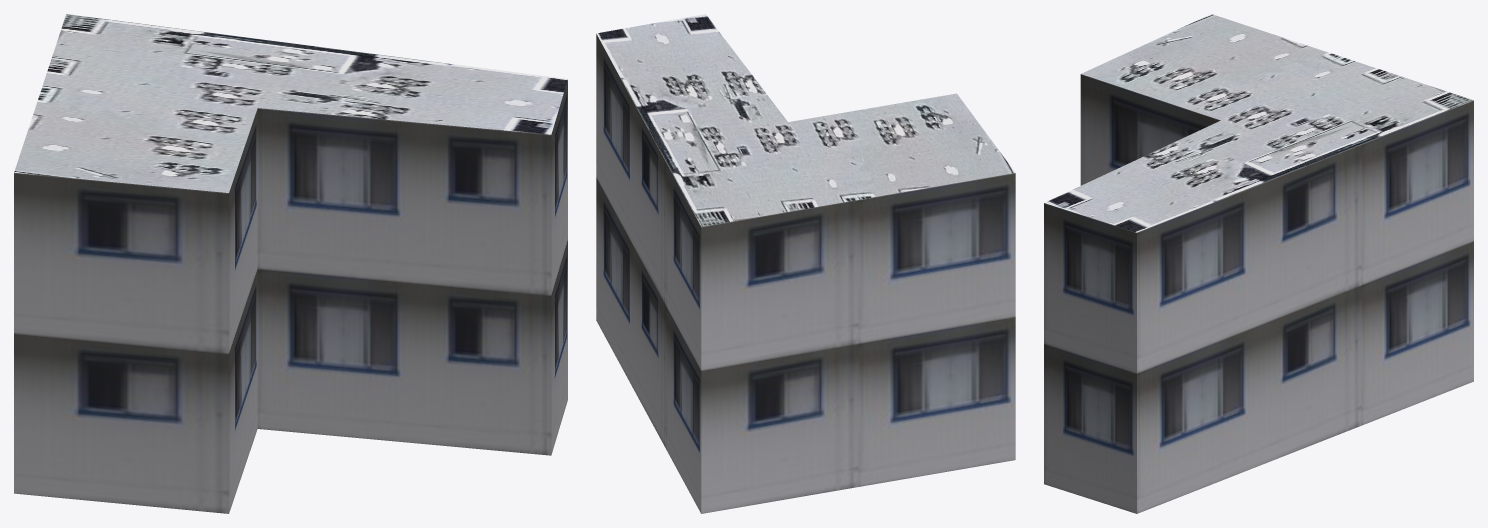
File: ResTex__3336.fbx
The picture shows the model from 3 angles, left to right: view 1: azimuth 30°, elevation 25°; view 2: azimuth 150°, elevation 25°; view 3: azimuth 270°, elevation 25°; orthographic projection. The views are drawn at different scales.
Parts seen in each view (by area): view 1: CityEngineMaterial_9_m, CityEngineMaterial_4_m; view 2: CityEngineMaterial_9_m, CityEngineMaterial_4_m; view 3: CityEngineMaterial_9_m, CityEngineMaterial_4_m.
Boxes of the visible parts, x1,y1,x2,y2 form: CityEngineMaterial_9_m: (14,80,567,513); CityEngineMaterial_4_m: (14,14,567,192); CityEngineMaterial_9_m: (596,34,1015,513); CityEngineMaterial_4_m: (596,14,1015,226); CityEngineMaterial_9_m: (1044,74,1473,513); CityEngineMaterial_4_m: (1045,14,1473,232).
Size of the model in its own units: 10.01 by 6 by 8.31.
2 materials, 2 textured.
